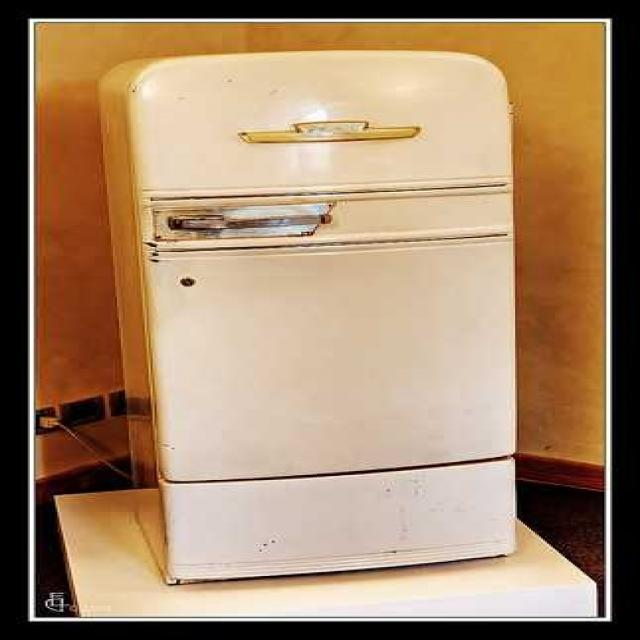refrigerator: (140, 43, 525, 581)
